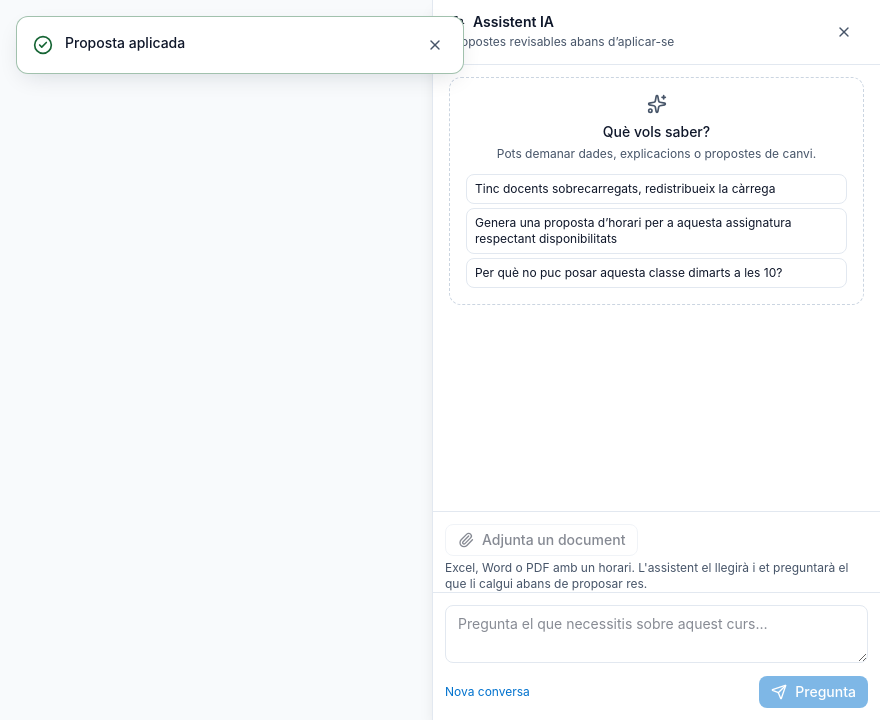
Test: the assistant panel › streams the answer as it arrives and renders the proposal it produced
In the text box: (656, 634) [445,605,868,663], type "Per què no puc posar aquesta classe dimarts?"
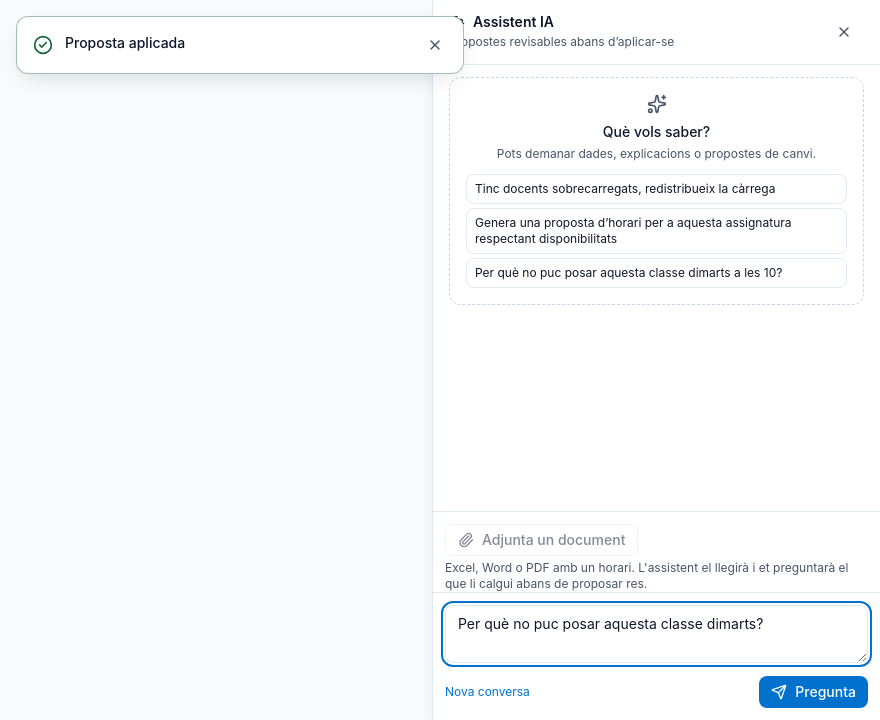
Click the button "Pregunta": (814, 692) [759,676,868,708]
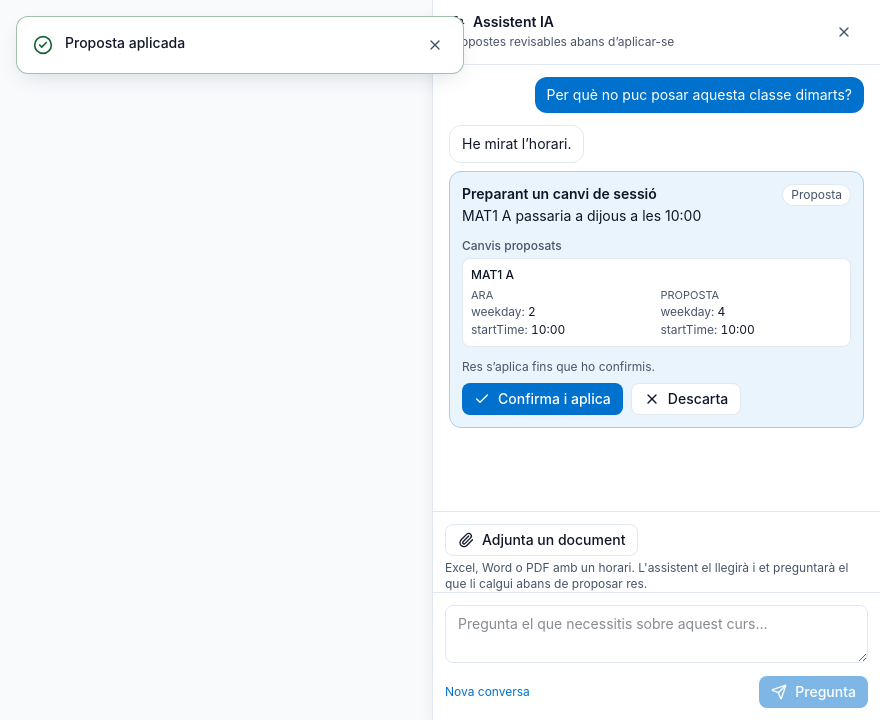
Check: the text "He mirat l’horari." is shown, box [462,134,572,154]
Check: the button "Confirma i aplica" is shown, box [462,382,623,414]
